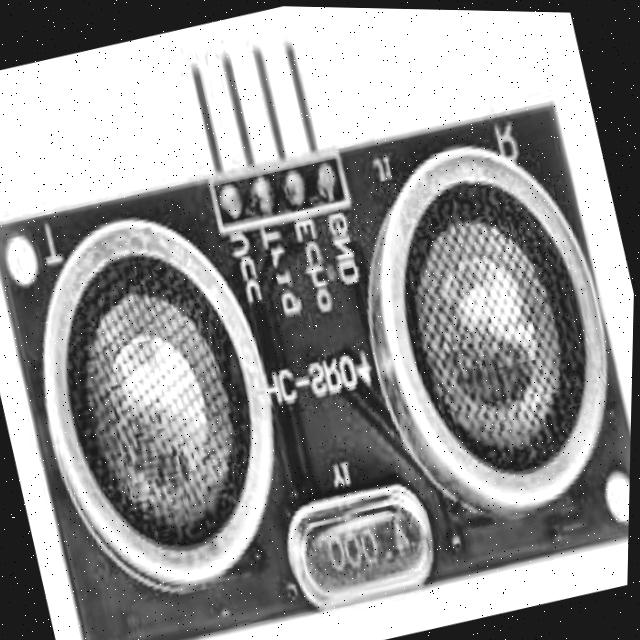Ultrasonic Sensor: (0, 9, 634, 640)
